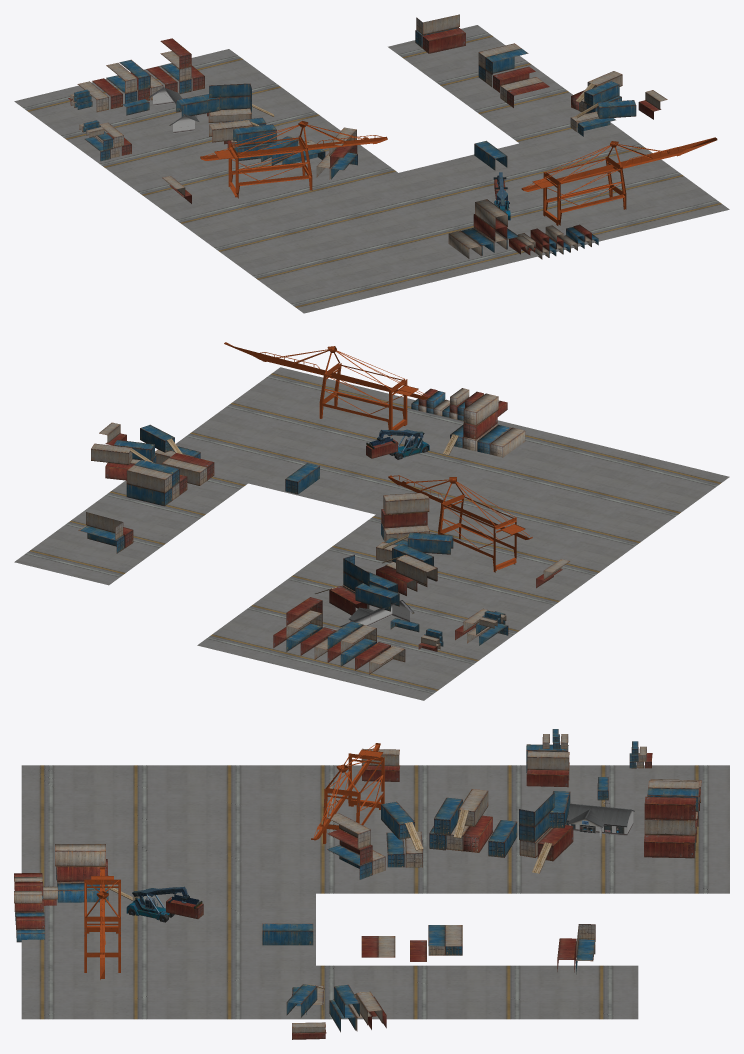
File: Scene_Garage03_outdoor01.FBX
The picture shows the model from 3 angles, top to bottom: view 1: azimuth 30°, elevation 25°; view 2: azimuth 150°, elevation 25°; view 3: azimuth 270°, elevation 25°; orthographic projection. The views are drawn at different scales.
Parts seen in each view (by area): view 1: Scene_Garage03_outdoor01_Ground01, Scene_Garage03_Container03, Scene_Garage03_Container02, Scene_Garage03_Container01, Scene_Garage03_Container04; view 2: Scene_Garage03_outdoor01_Ground01, Scene_Garage03_Container03, Scene_Garage03_Container02, Scene_Garage03_Container01, Scene_Garage03_Container04; view 3: Scene_Garage03_outdoor01_Ground01, Scene_Garage03_Container03, Scene_Garage03_Container02, Scene_Garage03_Container01, Scene_Garage03_Container04.
Boxes of the visible parts, x1,y1,x2,y2 form: Scene_Garage03_outdoor01_Ground01: [14, 25, 729, 313]; Scene_Garage03_Container03: [68, 38, 387, 203]; Scene_Garage03_Container02: [448, 137, 717, 259]; Scene_Garage03_Container01: [415, 14, 549, 107]; Scene_Garage03_Container04: [570, 71, 667, 136]; Scene_Garage03_outdoor01_Ground01: [14, 367, 729, 700]; Scene_Garage03_Container03: [273, 475, 569, 674]; Scene_Garage03_Container02: [224, 342, 525, 494]; Scene_Garage03_Container01: [78, 453, 214, 553]; Scene_Garage03_Container04: [91, 422, 200, 480]; Scene_Garage03_outdoor01_Ground01: [21, 765, 729, 1019]; Scene_Garage03_Container03: [311, 729, 701, 879]; Scene_Garage03_Container02: [14, 844, 313, 979]; Scene_Garage03_Container01: [361, 924, 595, 974]; Scene_Garage03_Container04: [286, 984, 386, 1039].
Bounding box in the file's own units: 14369 × 1881 × 15315.
